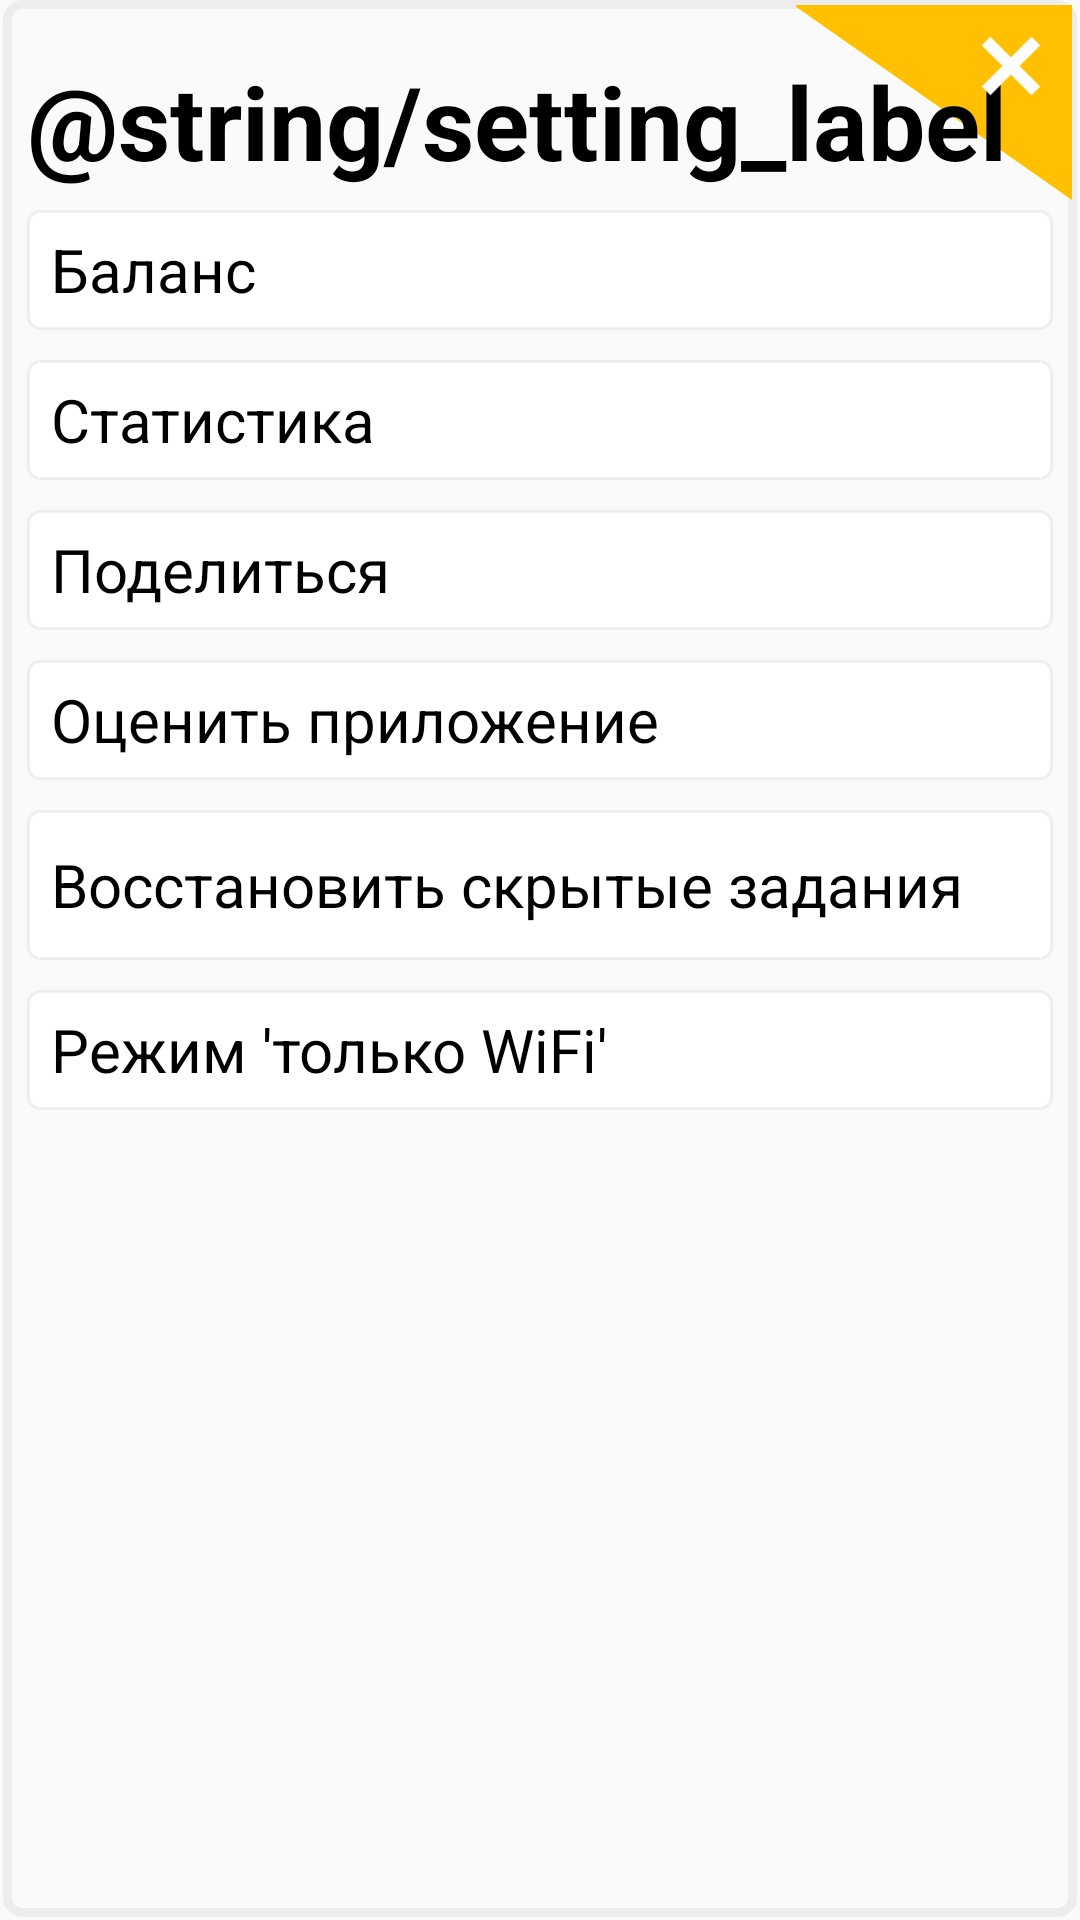

Named icons in this screenshot (1080 × 1920) and their centers, (x,y):
close: (1011,66)
